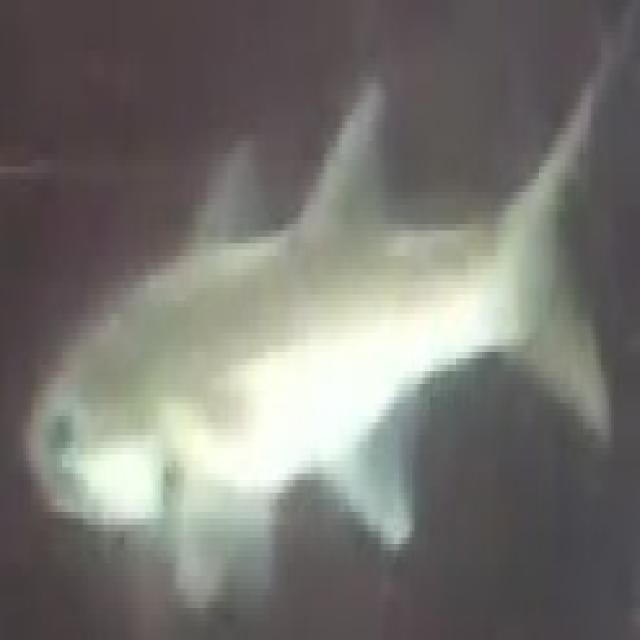Fourfinger-Threadfin: (19, 70, 636, 552)
